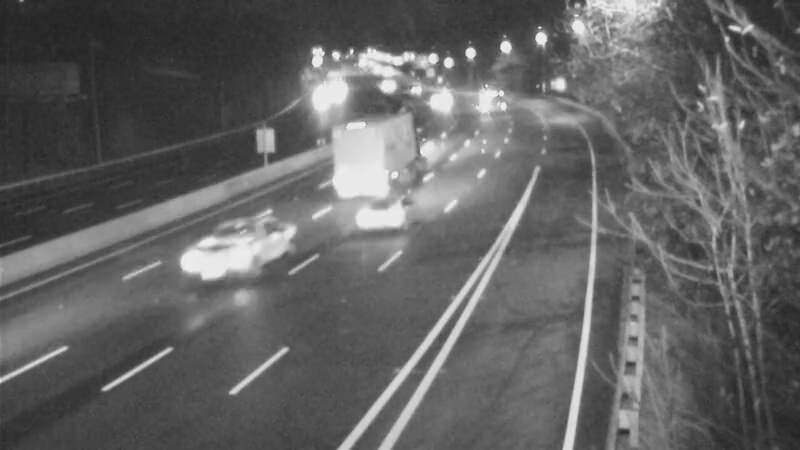vehicle: (344, 179, 424, 259), (178, 215, 258, 295), (361, 60, 411, 110), (387, 65, 437, 115), (464, 70, 514, 120), (411, 77, 461, 127), (356, 125, 406, 175), (296, 71, 346, 121)
